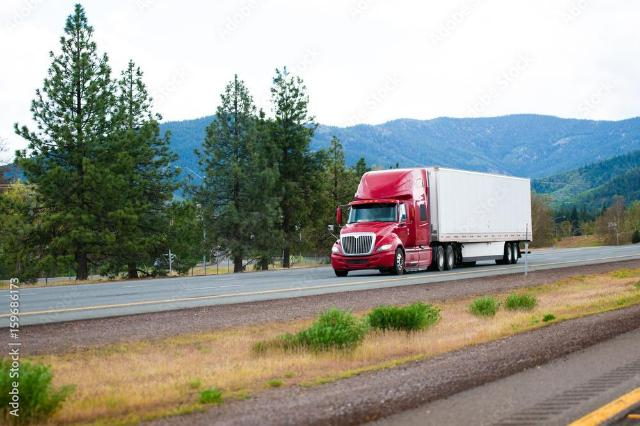truck: (323, 167, 540, 272)
